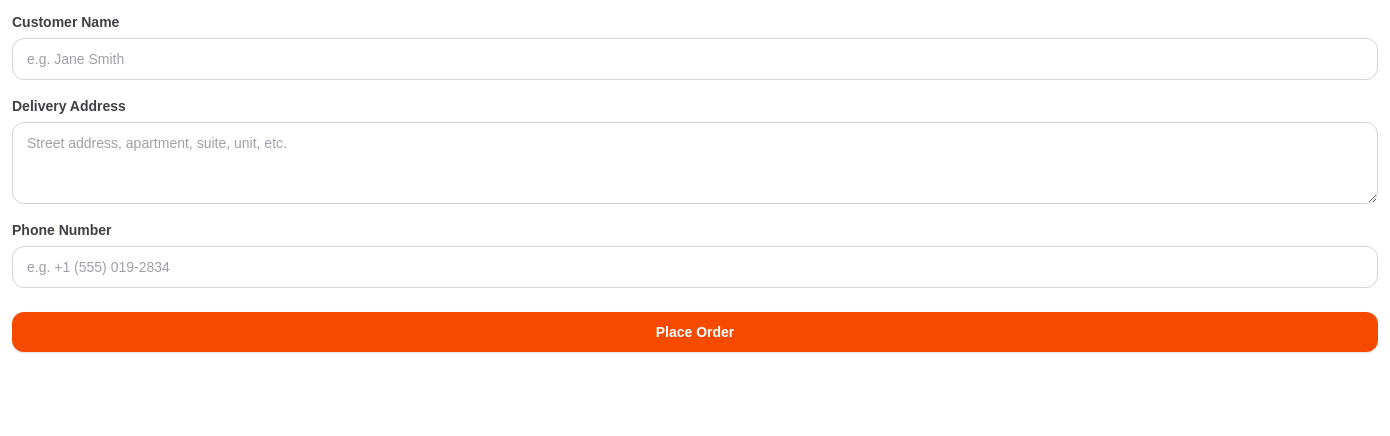
Test: CheckoutForm Component › handles server submission error without clearing cart
Type "Jane Smith" into the field labelled "Customer Name".
click(695, 59); type("Jane Smith")  # box [12,38,1378,80]
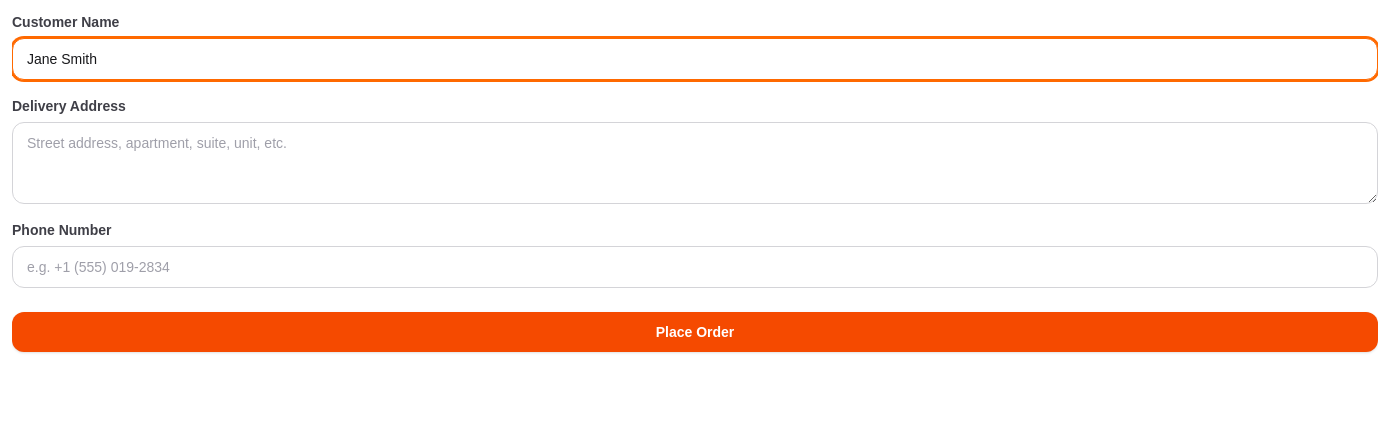
Type "789 Broadway Ave" into the text box labelled "Delivery Address".
click(695, 163); type("789 Broadway Ave")  # box [12,122,1378,204]
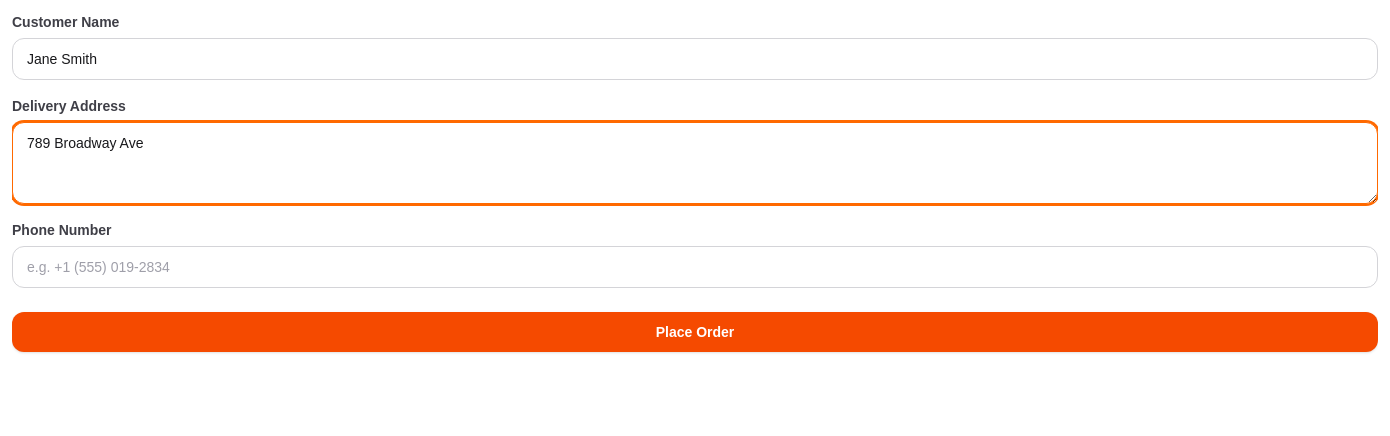
Type "+1 555-987-6543" into the field labelled "Phone Number".
click(695, 267); type("+1 555-987-6543")  # box [12,246,1378,288]
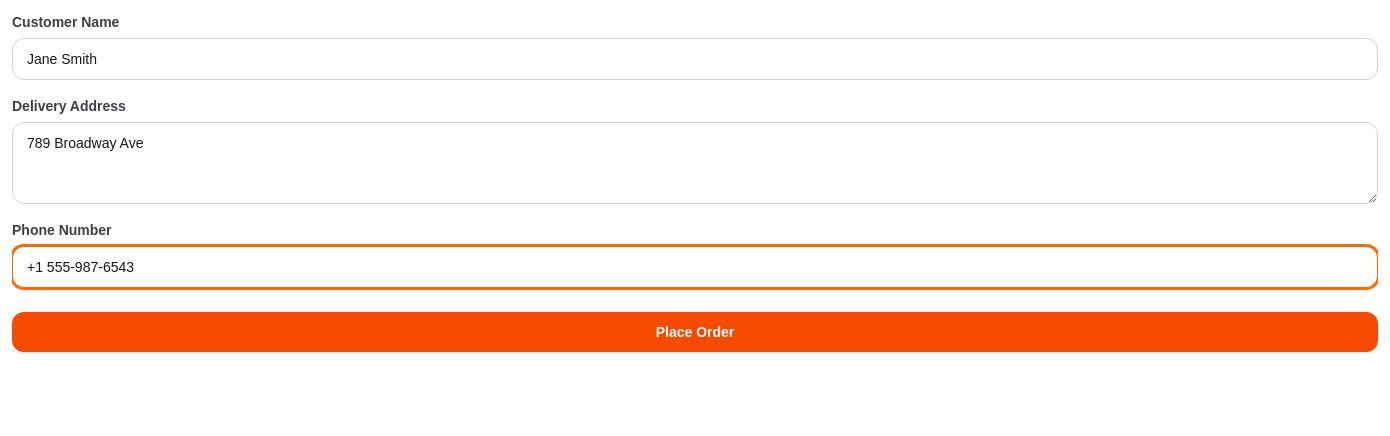
Click the button "Place Order".
click(695, 332)  # box [12,312,1378,352]
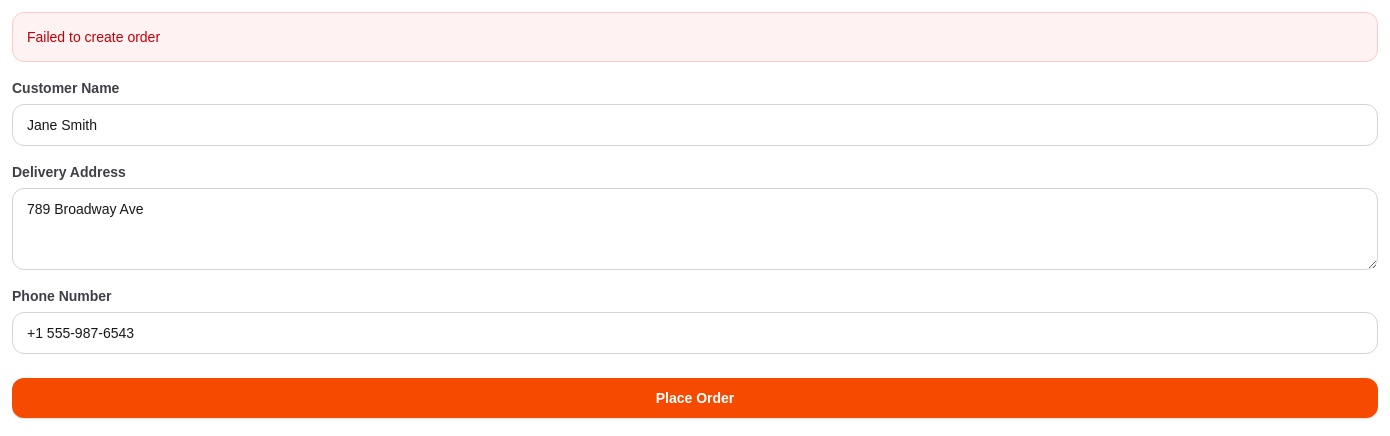
Expected: the button "Place Order" is shown, [12,378,1378,418]
Now the text "Failed to create order" is shown, box [12,12,1378,62]
